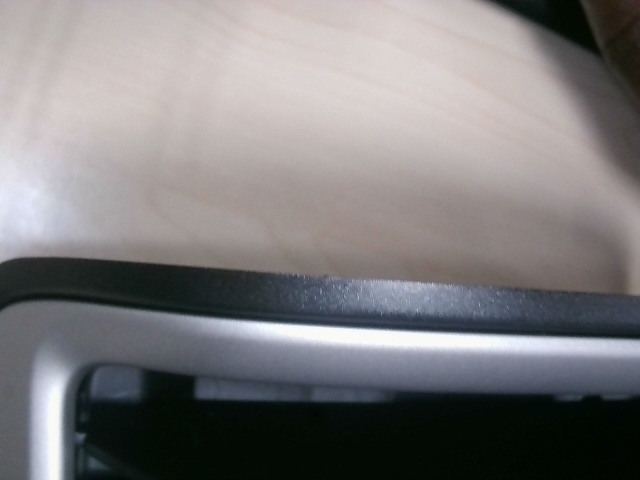NG: (319, 270, 361, 308)
